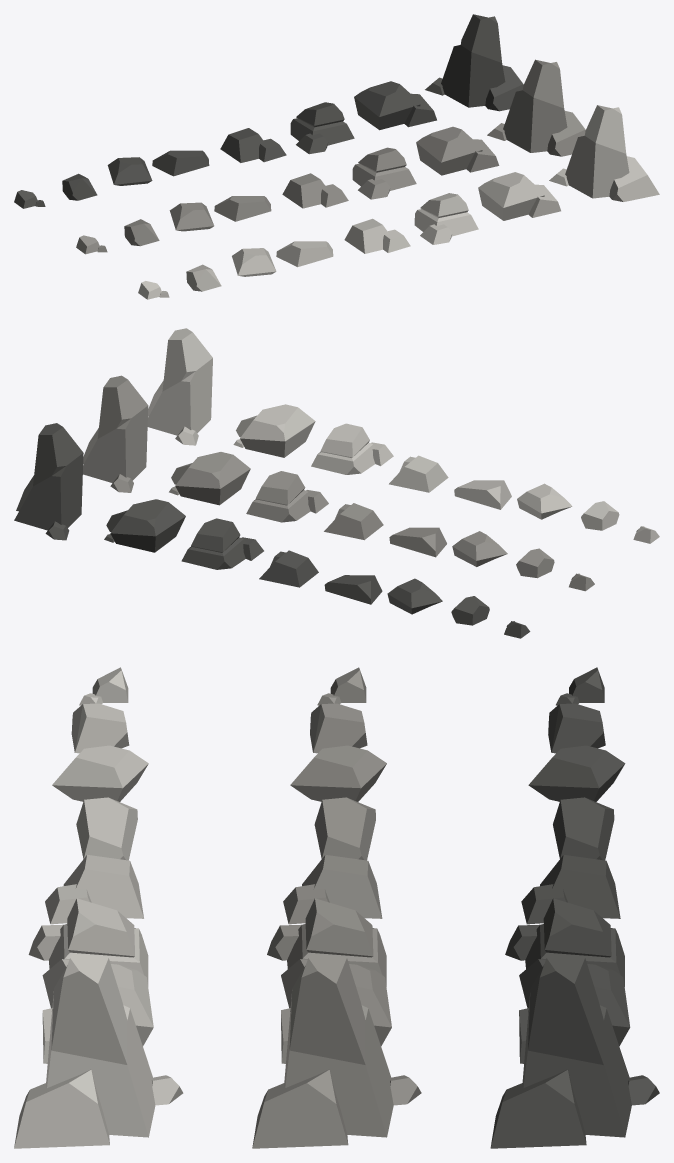
File: LOW_POLY_ROCK_ASSET_PACK.glb
The picture shows the model from 3 angles, top to bottom: view 1: azimuth 30°, elevation 25°; view 2: azimuth 150°, elevation 25°; view 3: azimuth 270°, elevation 25°; orthographic projection. The views are drawn at different scales.
Parts seen in each view (by area): view 1: Cube.005__0, Cube.021__0, Cube.013__0, Cube.009__0, Cube.001__0, Cube.017__0, Cube.014__0, Cube.022__0, Cube.006__0, Cube__0, Cube.008__0, Cube.016__0 (+9 smaller); view 2: Cube.021__0, Cube.005__0, Cube.013__0, Cube.009__0, Cube.017__0, Cube.001__0, Cube.022__0, Cube.006__0, Cube.014__0, Cube.008__0, Cube__0, Cube.016__0 (+9 smaller); view 3: Cube.021__0, Cube.005__0, Cube.013__0, Cube.006__0, Cube.014__0, Cube.022__0, Cube__0, Cube.008__0, Cube.016__0, Cube.007__0, Cube.023__0, Cube.015__0 (+12 smaller).
Boxes of the visible parts, x1,y1,x2,y2 form: Cube.005__0: [549, 105, 659, 201]; Cube.021__0: [425, 14, 523, 111]; Cube.013__0: [487, 59, 585, 156]; Cube.009__0: [416, 126, 499, 175]; Cube.001__0: [478, 172, 560, 220]; Cube.017__0: [354, 81, 436, 130]; Cube.014__0: [352, 147, 416, 199]; Cube.022__0: [290, 102, 354, 154]; Cube.006__0: [414, 193, 478, 244]; Cube__0: [344, 218, 410, 253]; Cube.008__0: [282, 173, 348, 208]; Cube.016__0: [220, 128, 286, 162]; Cube.021__0: [14, 423, 83, 540]; Cube.005__0: [147, 328, 212, 445]; Cube.013__0: [83, 375, 148, 492]; Cube.009__0: [169, 452, 250, 505]; Cube.017__0: [104, 499, 185, 552]; Cube.001__0: [233, 404, 315, 457]; Cube.022__0: [181, 518, 263, 569]; Cube.006__0: [311, 423, 393, 474]; Cube.014__0: [246, 471, 328, 522]; Cube.008__0: [324, 503, 383, 540]; Cube__0: [389, 455, 448, 492]; Cube.016__0: [259, 550, 318, 587]; Cube.021__0: [490, 953, 659, 1148]; Cube.005__0: [14, 953, 183, 1148]; Cube.013__0: [252, 953, 421, 1148]; Cube.006__0: [28, 898, 148, 986]; Cube.014__0: [267, 898, 386, 986]; Cube.022__0: [505, 898, 624, 986]; Cube__0: [45, 855, 143, 924]; Cube.008__0: [283, 855, 382, 924]; Cube.016__0: [521, 855, 620, 924]; Cube.007__0: [52, 745, 148, 801]; Cube.023__0: [528, 745, 625, 801]; Cube.015__0: [290, 745, 386, 801].
Size of the model in its own units: 6.87 by 1.11 by 4.07.
1 material, 1 textured.
